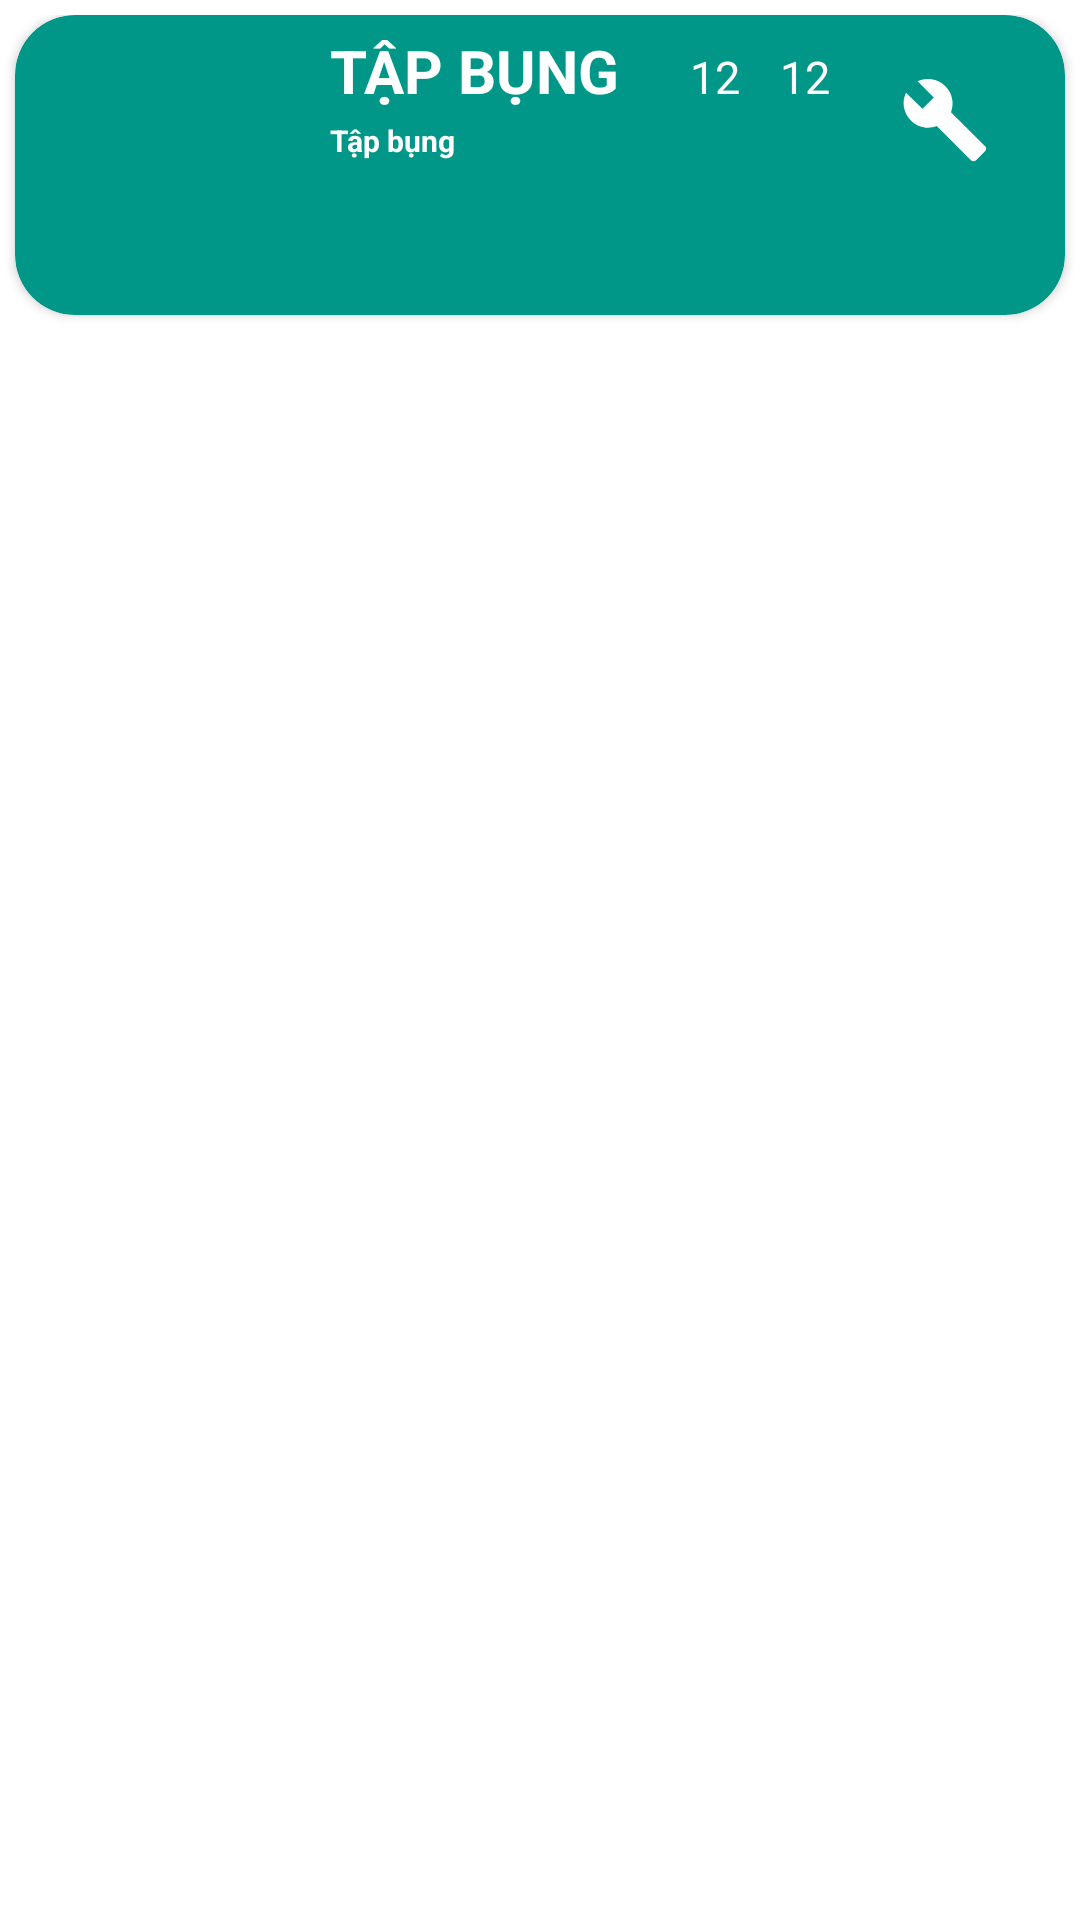

Named icons in this screenshot (1080x1920) and their centers, (x,y):
sua: (945,120)
